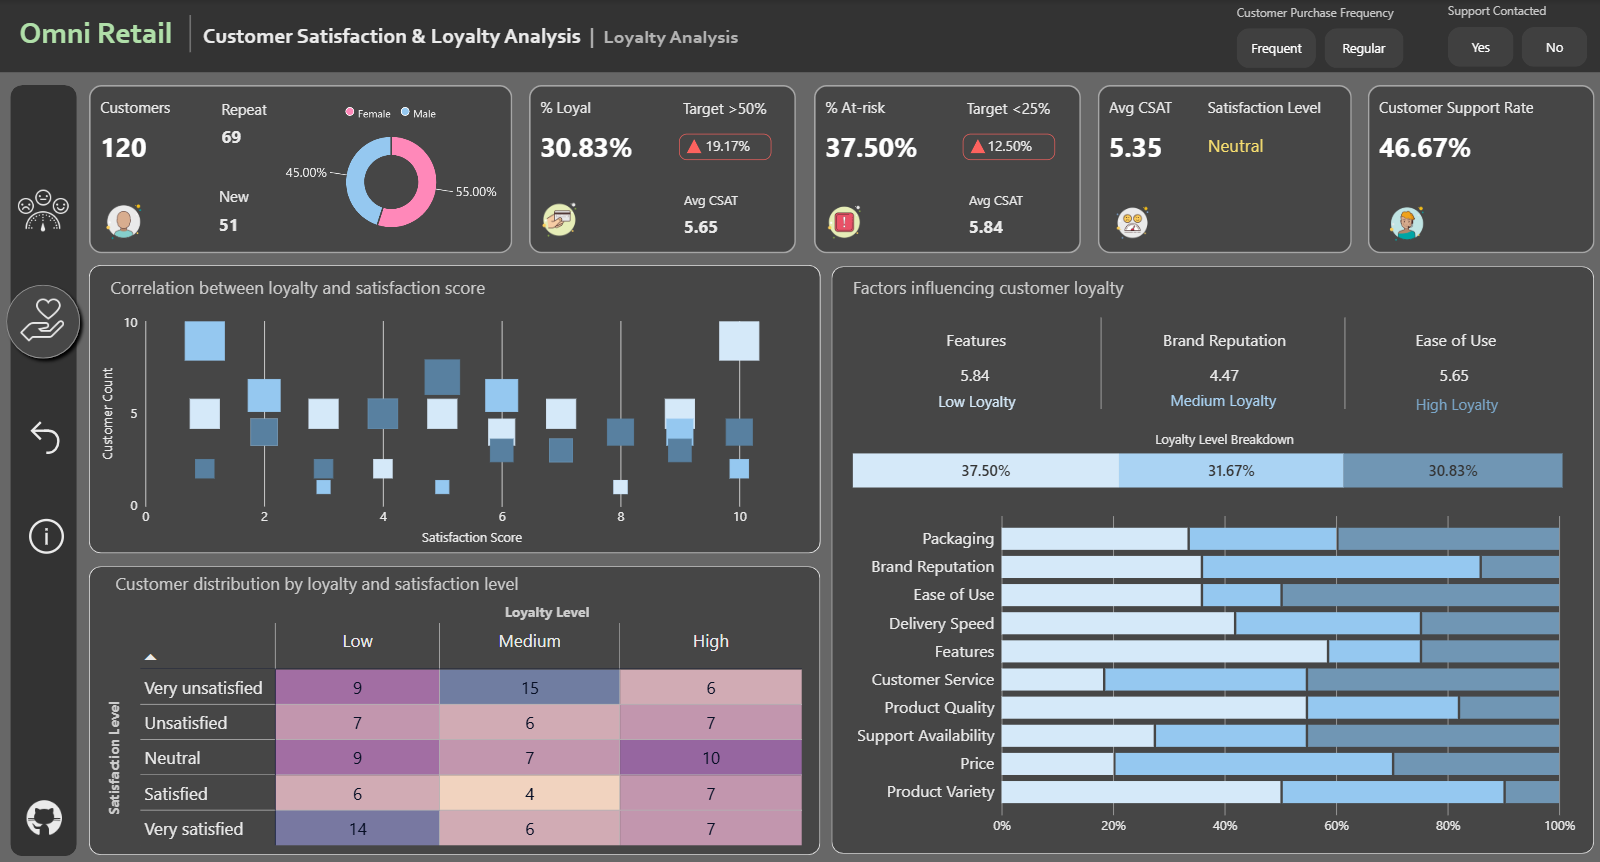

What the dashboard file says about the page in this screenshot:
{"tool":"powerbi","page":{"name":"CSAT Analysis","canvas":[1920,1080],"ordinal":0},"visuals":[{"type":"shape","title":"Header","box":[0,0,1920,90],"z":0},{"type":"cardVisual","fields":{"Data":["_KPIs.avg_statisfaction_score"]},"box":[1278.4,105.7,317.9,210],"z":0,"group":"g7"},{"type":"cardVisual","title":"Customer Support Rate ","fields":{"Data":["_KPIs.customer_support_rate"]},"box":[1614.6,105.7,283.6,210],"z":0,"group":"g13"},{"type":"cardVisual","fields":{"Data":["_KPIs.customer_count"]},"box":[20.3,105.8,528.3,210],"z":0,"group":"g1"},{"type":"cardVisual","fields":{"Data":["_KPIs.at-risk %"]},"box":[923.3,105.9,333.3,210],"z":0,"group":"g6"},{"type":"cardVisual","fields":{"Data":["_KPIs.loyal %"]},"box":[568.6,106.2,333.3,210],"z":0,"group":"g3"},{"type":"textbox","box":[1108.1,117.6,125,45],"z":0,"group":"g2"},{"type":"textbox","box":[755.6,117.9,125,45],"z":0,"group":"g4"},{"type":"shape","box":[945.9,332.7,952.5,361.7],"z":0,"group":"g10"},{"type":"shape","box":[20.4,333.6,910.3,360.1],"z":0,"group":"g9"},{"type":"cardVisual","fields":{"Data":["Min(Customer Satisfaction.Satisfaction_Factor)"]},"box":[963.5,535,175.2,69.5],"z":0,"group":"g8"},{"type":"shape","box":[1117.5,564.1,43.4,114.8],"z":0,"group":"g5"},{"type":"shape","box":[20,706.7,910,360],"z":0,"group":"g11"},{"type":"shape","box":[946.7,706.7,951.7,360],"z":0,"group":"g12"},{"type":"textbox","title":"Omni Retail","box":[20,13.3,276.7,65],"z":1000},{"type":"cardVisual","fields":{"Data":["_KPIs.Avg_Satisfaction_Level"]},"box":[1415.1,105.7,180,103.3],"z":1000,"group":"g7"},{"type":"card","fields":{"Values":["_KPIs.at-risk target display"]},"box":[1108.1,166.8,115.5,32.7],"z":1000,"group":"g2"},{"type":"card","fields":{"Values":["_KPIs.loyalty target display"]},"box":[755.6,168.5,115.5,32.7],"z":1000,"group":"g4"},{"type":"cardVisual","fields":{"Data":["_KPIs.new_cust_count"]},"box":[165.1,212.5,120,98.3],"z":1000,"group":"g1"},{"type":"cardVisual","fields":{"Data":["_KPIs.at-risk_avg_csat"]},"box":[1099.5,222,116.7,88.3],"z":1000,"group":"g6"},{"type":"cardVisual","fields":{"Data":["_KPIs.loyal_avg_satisfaction"]},"box":[745.1,222.3,116.7,88.3],"z":1000,"group":"g3"},{"type":"image","box":[1622,246.2,80,63.3],"z":1000,"group":"g13"},{"type":"ZoomChartsPieChartPaidE77E4ED357DC402ABA005987437CF500","fields":{"Values":["_KPIs.customer_count"],"Category":["Customer Category.Customer Category"],"tooltipContent":["All Measures.avg_statisfaction_score"]},"box":[20.3,355,576.8,320.5],"z":1000,"group":"g9"},{"type":"hundredPercentStackedBarChart","fields":{"Y":["_KPIs.customer_count"],"Series":["satisfaction_order.satisfaction_level"]},"box":[977.1,410.6,894.8,191.7],"z":1000,"group":"g10"},{"type":"cardVisual","fields":{"Data":["Min(Customer Satisfaction.Satisfaction_Factor)"]},"box":[1143.7,535,203.5,69.5],"z":1000,"group":"g8"},{"type":"shape","box":[1326,564.1,41.7,114.8],"z":1000,"group":"g5"},{"type":"ZoomChartsFacetChartPaidE77E4ED357DC402ABA005987437CF500","fields":{"Values1":["_KPIs.customer_count"],"Category":["Customer Satisfaction.Age (bins)","Loyalty Level.Loyalty level"],"Values2":["_KPIs.avg_statisfaction_score"],"tooltipContent":["_KPIs.avg_statisfaction_score"]},"box":[18.3,755.6,905,306.7],"z":1000,"group":"g11"},{"type":"ZoomChartsFacetChartPaidE77E4ED357DC402ABA005987437CF500","fields":{"Values1":["_KPIs.customer_count"],"Category":["Location.State"],"Values2":["_KPIs.avg_statisfaction_score"],"Legend":["Loyalty Level.Loyalty level"],"tooltipContent":["_KPIs.avg_statisfaction_score"]},"box":[961.7,765,931.7,298.3],"z":1000,"group":"g12"},{"type":"group","id":"g1","title":"Customer","box":[20.3,105.5,528.3,210.3],"z":2000},{"type":"cardVisual","fields":{"Data":["_KPIs.repeat_cust_count"]},"box":[168.6,105.5,116.4,89.1],"z":2000,"group":"g1"},{"type":"group","id":"g2","title":"Target group","box":[1108.1,117.6,125,81.9],"z":2000,"group":"g6"},{"type":"shape","box":[764.7,173.9,19.1,18.2],"z":2000,"group":"g4"},{"type":"shape","box":[1117.2,174.1,19.1,18.2],"z":2000,"group":"g2"},{"type":"image","box":[575.3,237.9,63.3,75],"z":2000,"group":"g3"},{"type":"image","box":[1285.7,248.4,71.2,60],"z":2000,"group":"g7"},{"type":"textbox","box":[1284.4,447,279,39],"z":2000,"group":"g10"},{"type":"cardVisual","fields":{"Data":["Min(Customer Satisfaction.Satisfaction_Factor)"]},"box":[1356.9,535,176,71],"z":2000,"group":"g8"},{"type":"shape","box":[1516.2,564.1,41.7,114.8],"z":2000,"group":"g5"},{"type":"textbox","box":[976.7,710,620,65],"z":2000,"group":"g12"},{"type":"textbox","box":[32,710.4,606.7,65],"z":2000,"group":"g11"},{"type":"group","id":"g3","title":"Loyal %","box":[568.6,106.2,333.3,210],"z":3000},{"type":"group","id":"g4","title":"Target group","box":[755.6,117.9,125,83.3],"z":3000,"group":"g3"},{"type":"image","box":[32,237.9,65,76.7],"z":3000,"group":"g1"},{"type":"image","box":[930.3,246.2,63.3,61.7],"z":3000,"group":"g6"},{"type":"textbox","box":[42.6,343,368.4,56.9],"z":3000,"group":"g9"},{"type":"cardVisual","fields":{"Data":["Min(Customer Satisfaction.Satisfaction_Factor)"]},"box":[1542.3,535,173.5,69.5],"z":3000,"group":"g8"},{"type":"group","id":"g5","title":"Vertical Lines","box":[1117.5,564.1,618.9,117.8],"z":3000,"group":"g10"},{"type":"shape","box":[1694.7,567.1,41.7,114.8],"z":3000,"group":"g5"},{"type":"group","id":"g6","title":"At-risk","box":[923.3,105.9,333.3,210],"z":4000},{"type":"ZoomChartsPieChartPaidE77E4ED357DC402ABA005987437CF500","fields":{"Values":["_KPIs.customer_count"],"Category":["Customer Demographics.Gender"]},"box":[257,122.9,280,180],"z":4000,"group":"g1"},{"type":"textbox","box":[969.6,338.9,585.5,67.8],"z":4000,"group":"g10"},{"type":"cardVisual","fields":{"Data":["Min(Customer Satisfaction.Satisfaction_Factor)"]},"box":[1728,535,165.3,65.4],"z":4000,"group":"g8"},{"type":"ZoomChartsDrillDownComboBarProE77E4ED357DC402ABA005987437CF8","fields":{"Values1":["_KPIs.NPS"]},"box":[113.3,603,373.4,87],"z":4000,"group":"g9"},{"type":"group","id":"g7","title":"Avg CSAT","box":[1278.4,105.7,317.9,210],"z":5000},{"type":"group","id":"g8","title":"Satisfaction Factor","box":[963.5,535,932.5,158.8],"z":5000,"group":"g10"},{"type":"card","fields":{"Values":["_KPIs.NPS"]},"box":[237,550,135,70.6],"z":5000,"group":"g9"},{"type":"cardVisual","fields":{"Data":["_KPIs.avg_statisfaction_score"]},"box":[1729.2,583,166.8,64.3],"z":5000,"group":"g8"},{"type":"image","box":[622,438,280.6,227.6],"z":5500,"group":"g9"},{"type":"group","id":"g9","title":"NPS","box":[20.3,333.6,910.4,360.1],"z":6000},{"type":"textbox","box":[963.5,648.6,176.8,45.2],"z":6000,"group":"g8"},{"type":"group","id":"g10","title":"Satisfaction group","box":[945.9,332.7,952.5,361.7],"z":7000},{"type":"textbox","box":[1143.7,648.6,203.5,45.2],"z":7000,"group":"g8"},{"type":"shape","title":"Grey divider","box":[245,21.7,43.3,46.7],"z":8000},{"type":"textbox","box":[1352.2,648.6,181.8,45.2],"z":8000,"group":"g8"},{"type":"textbox","title":"Report Title","box":[283.3,21.7,825,56.7],"z":9000},{"type":"textbox","box":[1542.3,648.6,173.5,45.2],"z":9000,"group":"g8"},{"type":"actionButton","title":"Info","box":[1835,23.3,65,50],"z":10000},{"type":"textbox","box":[1729.2,648.6,166.8,45.2],"z":10000,"group":"g8"},{"type":"actionButton","title":"Reset","box":[1756.7,23.3,63.3,46.7],"z":11000},{"type":"cardVisual","fields":{"Data":["_KPIs.avg_statisfaction_score"]},"box":[1540.7,583,175.2,64.3],"z":11000,"group":"g8"},{"type":"advancedSlicerVisual","title":"Customer Purchase Frequency","fields":{"Values":["Customer Satisfaction.Purchase_Frequency"]},"box":[1140.1,4.9,282.2,78.3],"z":12000},{"type":"cardVisual","fields":{"Data":["_KPIs.avg_statisfaction_score"]},"box":[1350.5,583,185.2,64.3],"z":12000,"group":"g8"},{"type":"cardVisual","fields":{"Data":["_KPIs.avg_statisfaction_score"]},"box":[1143.7,583,201.8,64.3],"z":13000,"group":"g8"},{"type":"group","id":"g11","title":"Avg CSAT-Age Groups","box":[18.3,706.7,911.7,360],"z":13000},{"type":"cardVisual","fields":{"Data":["_KPIs.avg_statisfaction_score"]},"box":[963.5,583,175.2,64.3],"z":14000,"group":"g8"},{"type":"group","id":"g12","title":"Loyalty-State","box":[946.7,706.7,951.7,360],"z":14000},{"type":"group","id":"g13","title":"Customer Support Rate","box":[1614.6,105.7,283.6,210],"z":15000},{"type":"advancedSlicerVisual","title":"Support Contacted","fields":{"Values":["Customer Satisfaction.Support_Contacted"]},"box":[1446.7,5,280,78.3],"z":15500},{"type":"ZoomChartsDrillDownComboBarProE77E4ED357DC402ABA005987437CF8","title":"CSAT Scale 2","fields":{"Values1":["Count(Customer Satisfaction.Satisfaction_Score)"],"Legend":["satisfaction_order.satisfaction_level"]},"box":[1563.6,332,335.2,106],"z":16000},{"type":"ZoomChartsDrillDownComboBarProE77E4ED357DC402ABA005987437CF8","title":"CSAT Scale 1","fields":{"Values1":["Count(Customer Satisfaction.Satisfaction_Score)"],"Legend":["Customer Category.Customer Category"]},"box":[606.4,333.6,324.3,104.4],"z":17000}]}

Visuals, with their boxes on the page's 1920x1080 design canvas (x1, y1, x2, y2). These are canvas units, not pixel positions in the 1600x862 screenshot, which may show the page scaled, cropped or inside an application window:
"Header" shape: region(0, 0, 1920, 90)
cardVisual - _KPIs.avg_statisfaction_score: region(1278, 106, 1596, 316)
"Customer Support Rate " cardVisual: region(1615, 106, 1898, 316)
cardVisual - _KPIs.customer_count: region(20, 106, 549, 316)
cardVisual - _KPIs.at-risk %: region(923, 106, 1257, 316)
cardVisual - _KPIs.loyal %: region(569, 106, 902, 316)
textbox: region(1108, 118, 1233, 163)
textbox: region(756, 118, 881, 163)
shape: region(946, 333, 1898, 694)
shape: region(20, 334, 931, 694)
cardVisual - Min(Customer Satisfaction.Satisfaction_Factor): region(964, 535, 1139, 604)
shape: region(1118, 564, 1161, 679)
shape: region(20, 707, 930, 1067)
shape: region(947, 707, 1898, 1067)
"Omni Retail" textbox: region(20, 13, 297, 78)
cardVisual - _KPIs.Avg_Satisfaction_Level: region(1415, 106, 1595, 209)
card - _KPIs.at-risk target display: region(1108, 167, 1224, 200)
card - _KPIs.loyalty target display: region(756, 168, 871, 201)
cardVisual - _KPIs.new_cust_count: region(165, 212, 285, 311)
cardVisual - _KPIs.at-risk_avg_csat: region(1100, 222, 1216, 310)
cardVisual - _KPIs.loyal_avg_satisfaction: region(745, 222, 862, 311)
image: region(1622, 246, 1702, 310)
ZoomChartsPieChartPaidE77E4ED357DC402ABA005987437CF500 - _KPIs.customer_count x Customer Category.Customer Category: region(20, 355, 597, 676)
hundredPercentStackedBarChart - _KPIs.customer_count x satisfaction_order.satisfaction_level: region(977, 411, 1872, 602)
cardVisual - Min(Customer Satisfaction.Satisfaction_Factor): region(1144, 535, 1347, 604)
shape: region(1326, 564, 1368, 679)
ZoomChartsFacetChartPaidE77E4ED357DC402ABA005987437CF500 - _KPIs.customer_count x Customer Satisfaction.Age (bins): region(18, 756, 923, 1062)
ZoomChartsFacetChartPaidE77E4ED357DC402ABA005987437CF500 - _KPIs.customer_count x Location.State: region(962, 765, 1893, 1063)
"Customer" group: region(20, 106, 549, 316)
cardVisual - _KPIs.repeat_cust_count: region(169, 106, 285, 195)
"Target group" group: region(1108, 118, 1233, 200)
shape: region(765, 174, 784, 192)
shape: region(1117, 174, 1136, 192)
image: region(575, 238, 639, 313)
image: region(1286, 248, 1357, 308)
textbox: region(1284, 447, 1563, 486)
cardVisual - Min(Customer Satisfaction.Satisfaction_Factor): region(1357, 535, 1533, 606)
shape: region(1516, 564, 1558, 679)
textbox: region(977, 710, 1597, 775)
textbox: region(32, 710, 639, 775)
"Loyal %" group: region(569, 106, 902, 316)
"Target group" group: region(756, 118, 881, 201)
image: region(32, 238, 97, 315)
image: region(930, 246, 994, 308)
textbox: region(43, 343, 411, 400)
cardVisual - Min(Customer Satisfaction.Satisfaction_Factor): region(1542, 535, 1716, 604)
"Vertical Lines" group: region(1118, 564, 1736, 682)
shape: region(1695, 567, 1736, 682)
"At-risk" group: region(923, 106, 1257, 316)
ZoomChartsPieChartPaidE77E4ED357DC402ABA005987437CF500 - _KPIs.customer_count x Customer Demographics.Gender: region(257, 123, 537, 303)
textbox: region(970, 339, 1555, 407)
cardVisual - Min(Customer Satisfaction.Satisfaction_Factor): region(1728, 535, 1893, 600)
ZoomChartsDrillDownComboBarProE77E4ED357DC402ABA005987437CF8 - _KPIs.NPS: region(113, 603, 487, 690)
"Avg CSAT" group: region(1278, 106, 1596, 316)
"Satisfaction Factor" group: region(964, 535, 1896, 694)
card - _KPIs.NPS: region(237, 550, 372, 621)
cardVisual - _KPIs.avg_statisfaction_score: region(1729, 583, 1896, 647)
image: region(622, 438, 903, 666)
"NPS" group: region(20, 334, 931, 694)
textbox: region(964, 649, 1140, 694)
"Satisfaction group" group: region(946, 333, 1898, 694)
textbox: region(1144, 649, 1347, 694)
"Grey divider" shape: region(245, 22, 288, 68)
textbox: region(1352, 649, 1534, 694)
"Report Title" textbox: region(283, 22, 1108, 78)
textbox: region(1542, 649, 1716, 694)
"Info" actionButton: region(1835, 23, 1900, 73)
textbox: region(1729, 649, 1896, 694)
"Reset" actionButton: region(1757, 23, 1820, 70)
cardVisual - _KPIs.avg_statisfaction_score: region(1541, 583, 1716, 647)
"Customer Purchase Frequency" advancedSlicerVisual: region(1140, 5, 1422, 83)
cardVisual - _KPIs.avg_statisfaction_score: region(1350, 583, 1536, 647)
cardVisual - _KPIs.avg_statisfaction_score: region(1144, 583, 1346, 647)
"Avg CSAT-Age Groups" group: region(18, 707, 930, 1067)
cardVisual - _KPIs.avg_statisfaction_score: region(964, 583, 1139, 647)
"Loyalty-State" group: region(947, 707, 1898, 1067)
"Customer Support Rate" group: region(1615, 106, 1898, 316)
"Support Contacted" advancedSlicerVisual: region(1447, 5, 1727, 83)
"CSAT Scale 2" ZoomChartsDrillDownComboBarProE77E4ED357DC402ABA005987437CF8: region(1564, 332, 1899, 438)
"CSAT Scale 1" ZoomChartsDrillDownComboBarProE77E4ED357DC402ABA005987437CF8: region(606, 334, 931, 438)
